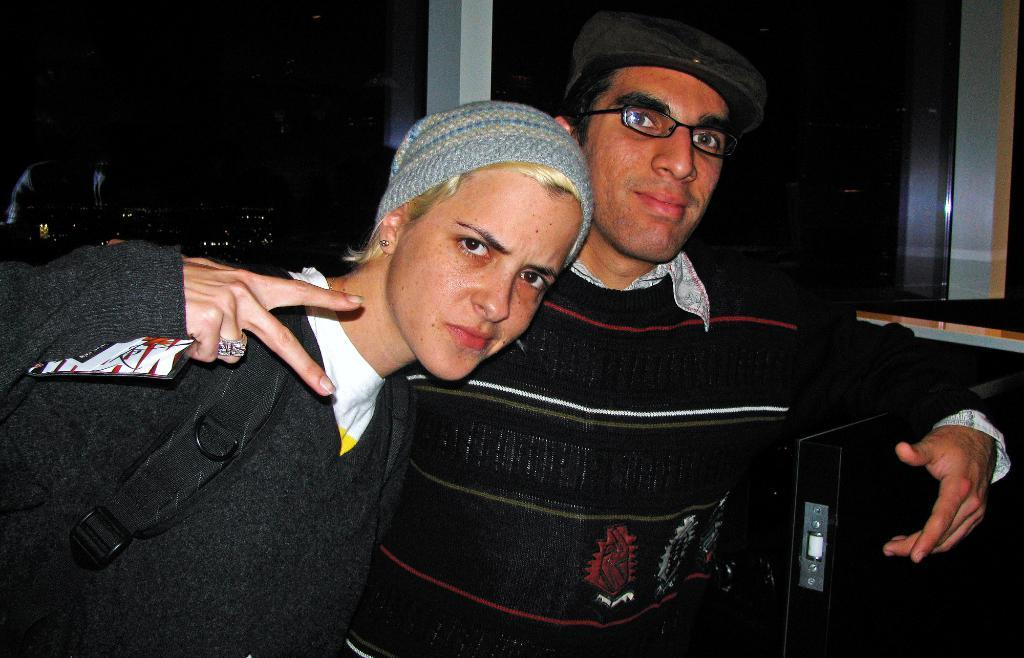Hat: (560, 3, 774, 139)
